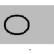no answer: (2, 13, 31, 36)
